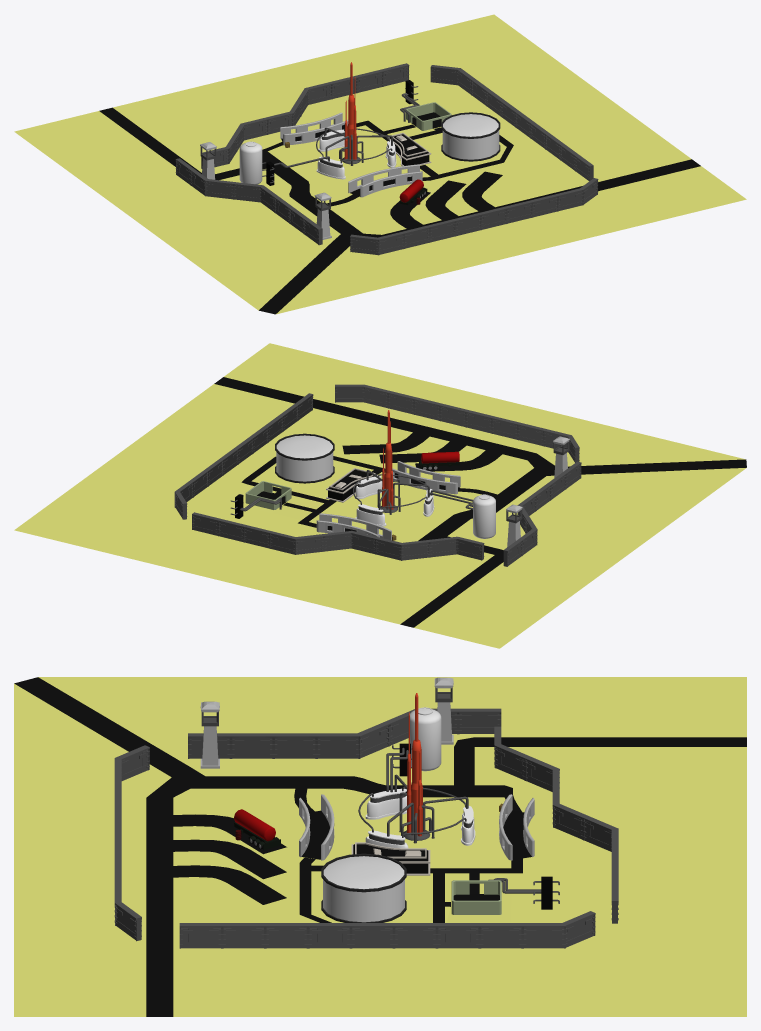
Rendered from Level - Oil Rig - Model.FBX.
3 views of the same model, one above another, from view 1: azimuth 30°, elevation 25°; view 2: azimuth 150°, elevation 25°; view 3: azimuth 270°, elevation 25° (orthographic). The views are drawn at different scales.
Parts seen in each view (by area): view 1: Floor, Level_Wall_South, Level_Wall_West, Refinery, Level_Wall_North, Hallway1, Level_Wall_East, Hallway2, Pump1, Object001, Oiltank2, Level_Wall_North001 (+6 smaller); view 2: Floor, Level_Wall_South, Level_Wall_West, Refinery, Level_Wall_North, Hallway1, Level_Wall_East, Object008, Hallway2, Object007, Pump1, Oiltank2 (+9 smaller); view 3: Floor, Level_Wall_West, Refinery, Level_Wall_East, Pump1, Hallway2, Hallway1, Valveroom, Object007, Object008, Oiltank2, Object001 (+11 smaller).
Boxes of the visible parts, left/top/right/bottom form: Floor: left=14, top=14, right=746, bottom=314; Level_Wall_South: left=377, top=188, right=583, bottom=254; Level_Wall_West: left=457, top=68, right=593, bottom=181; Refinery: left=441, top=112, right=500, bottom=161; Level_Wall_North: left=304, top=63, right=409, bottom=104; Hallway1: left=348, top=164, right=422, bottom=197; Level_Wall_East: left=260, top=185, right=322, bottom=245; Hallway2: left=280, top=112, right=348, bottom=145; Pump1: left=339, top=62, right=363, bottom=165; Object001: left=205, top=179, right=262, bottom=202; Oiltank2: left=239, top=141, right=262, bottom=184; Level_Wall_North001: left=240, top=111, right=293, bottom=140; Floor: left=14, top=343, right=746, bottom=648; Level_Wall_South: left=362, top=384, right=571, bottom=448; Level_Wall_West: left=174, top=393, right=313, bottom=507; Refinery: left=275, top=433, right=334, bottom=483; Level_Wall_North: left=192, top=512, right=297, bottom=554; Hallway1: left=392, top=461, right=460, bottom=494; Level_Wall_East: left=518, top=461, right=581, bottom=515; Object008: left=400, top=536, right=458, bottom=560; Hallway2: left=316, top=513, right=391, bottom=540; Object007: left=296, top=530, right=352, bottom=554; Pump1: left=377, top=410, right=400, bottom=514; Oiltank2: left=473, top=494, right=495, bottom=538; Floor: left=14, top=677, right=746, bottom=1016; Level_Wall_West: left=179, top=923, right=565, bottom=948; Refinery: left=321, top=853, right=406, bottom=922; Level_Wall_East: left=188, top=733, right=359, bottom=758; Pump1: left=399, top=693, right=434, bottom=843; Hallway2: left=499, top=794, right=534, bottom=860; Hallway1: left=299, top=794, right=334, bottom=860; Valveroom: left=451, top=880, right=501, bottom=914; Object007: left=552, top=803, right=617, bottom=851; Object008: left=494, top=743, right=559, bottom=791; Oiltank2: left=409, top=707, right=441, bottom=771; Object001: left=358, top=709, right=414, bottom=758.
Bounding box in the file's own units: 114 × 22.3 × 104.
